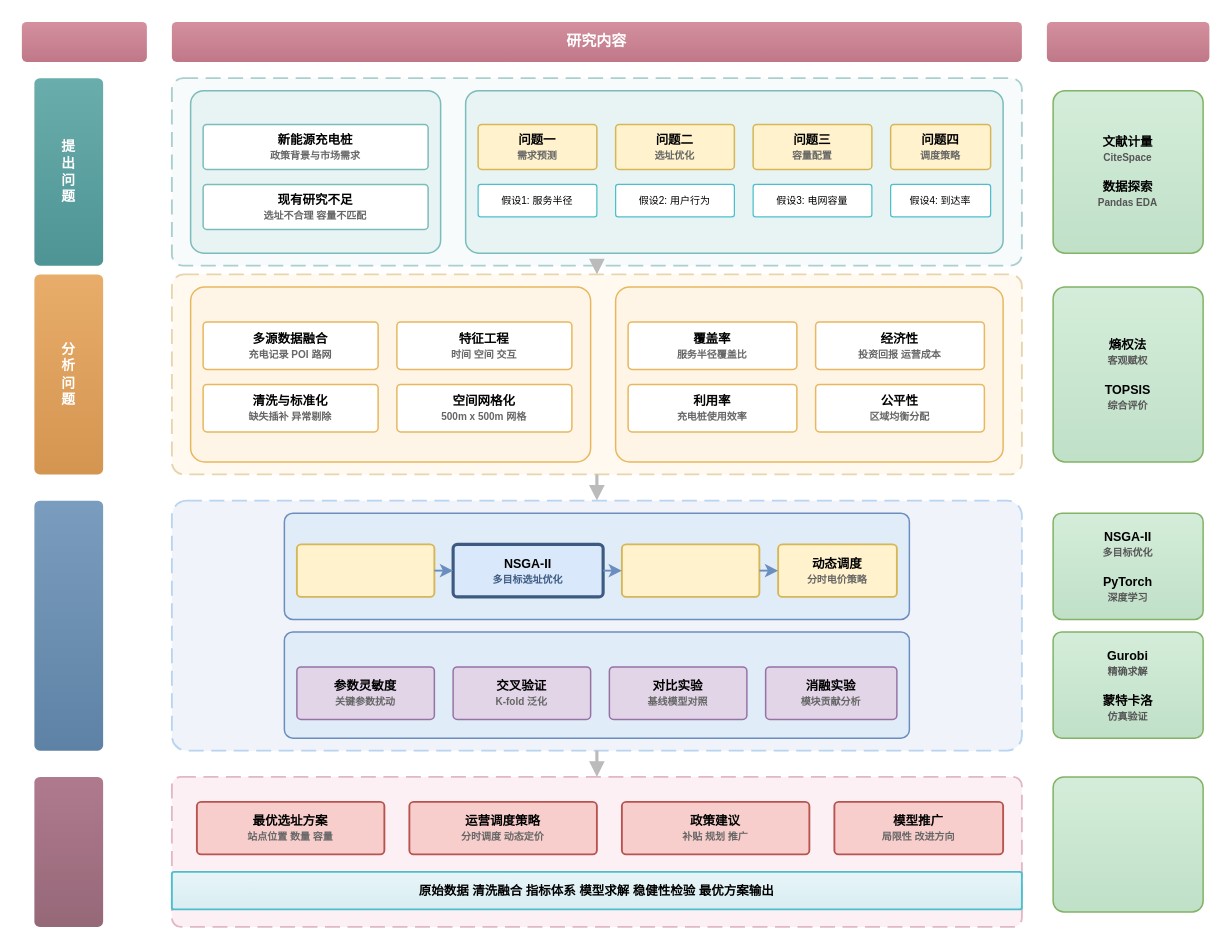
Image size: 1230x949. Some labels were removed from this diagram. The box of each missing label's shape, as (x1, y1, x2, y2) in pixels:
LSTM-Attention 时空需求预测: (295, 543, 435, 597)
M/M/c 排队论 容量优化配置: (620, 543, 760, 597)
可视化 Matplotlib 论文撰写 LaTeX: (1052, 776, 1203, 912)
指标体系构建: (614, 286, 1003, 462)
数据预处理: (189, 286, 591, 462)
核心模型求解: (283, 512, 910, 620)
研 究 结 论: (34, 776, 102, 926)
研究方法: (1046, 21, 1209, 61)
研究框架: (21, 21, 146, 61)
研究背景: (189, 89, 441, 253)
稳健性与灵敏度: (283, 630, 910, 738)
解 决 问 题: (34, 500, 102, 750)
问题拆解与假设: (464, 89, 1003, 253)
